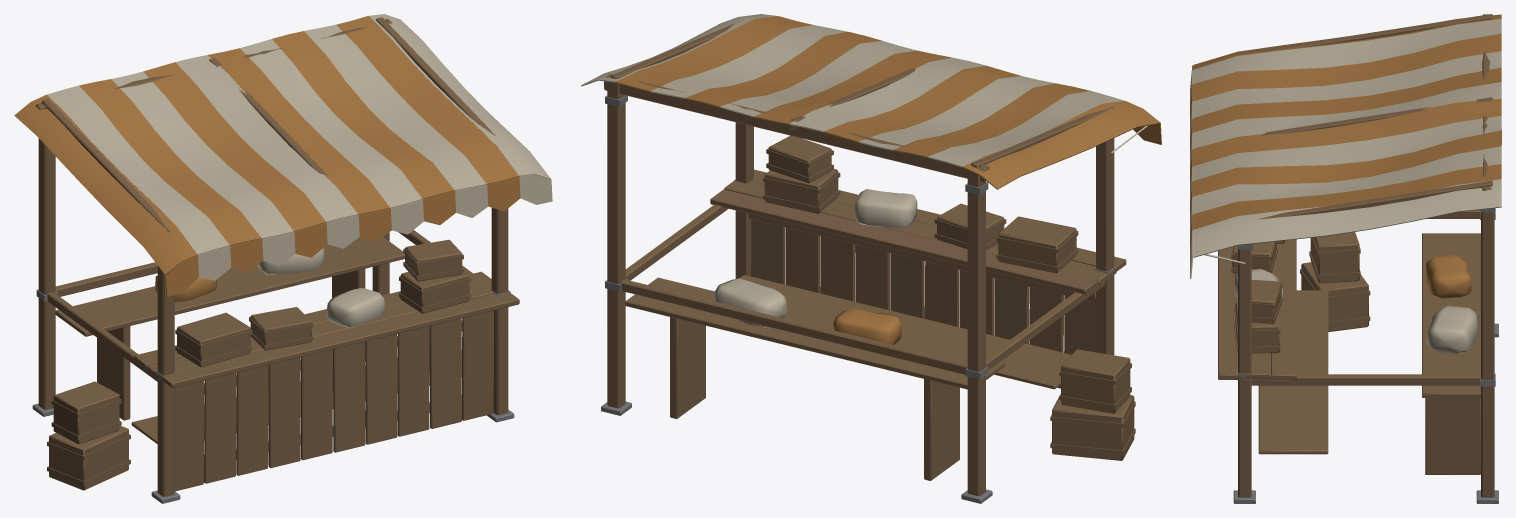
Rendered from kit_market_stall.glb.
3 renders of one model, left to right at view 1: azimuth 30°, elevation 25°; view 2: azimuth 150°, elevation 25°; view 3: azimuth 270°, elevation 25°, orthographic. The views are drawn at different scales.
Visible parts, largest first — view 1: kit_market_stall_wood, kit_market_stall_cloth, kit_market_stall_pale_cloth, kit_market_stall_metal; view 2: kit_market_stall_wood, kit_market_stall_cloth, kit_market_stall_pale_cloth, kit_market_stall_metal; view 3: kit_market_stall_wood, kit_market_stall_pale_cloth, kit_market_stall_cloth, kit_market_stall_metal.
Part boxes in pixels (x1,y1,x2,y2): kit_market_stall_wood: [36, 17, 519, 496]; kit_market_stall_cloth: [14, 16, 520, 302]; kit_market_stall_pale_cloth: [47, 14, 552, 327]; kit_market_stall_metal: [32, 289, 514, 503]; kit_market_stall_wood: [604, 23, 1135, 496]; kit_market_stall_cloth: [616, 16, 1161, 344]; kit_market_stall_pale_cloth: [581, 14, 1154, 327]; kit_market_stall_metal: [601, 95, 1116, 503]; kit_market_stall_wood: [1218, 14, 1494, 497]; kit_market_stall_pale_cloth: [1190, 19, 1501, 353]; kit_market_stall_cloth: [1190, 14, 1501, 298]; kit_market_stall_metal: [1233, 208, 1498, 503].
Bounding box in the file's own units: 3.64 × 2.53 × 2.24.
